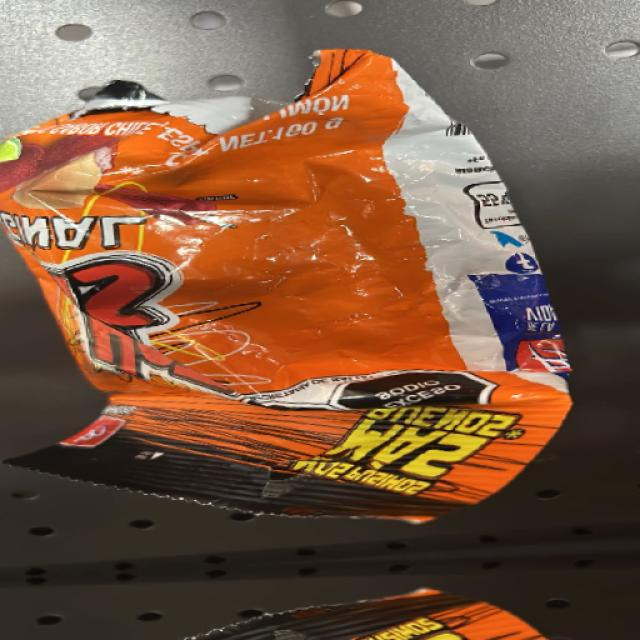hotNutsOriginal: (9, 138, 529, 460)
